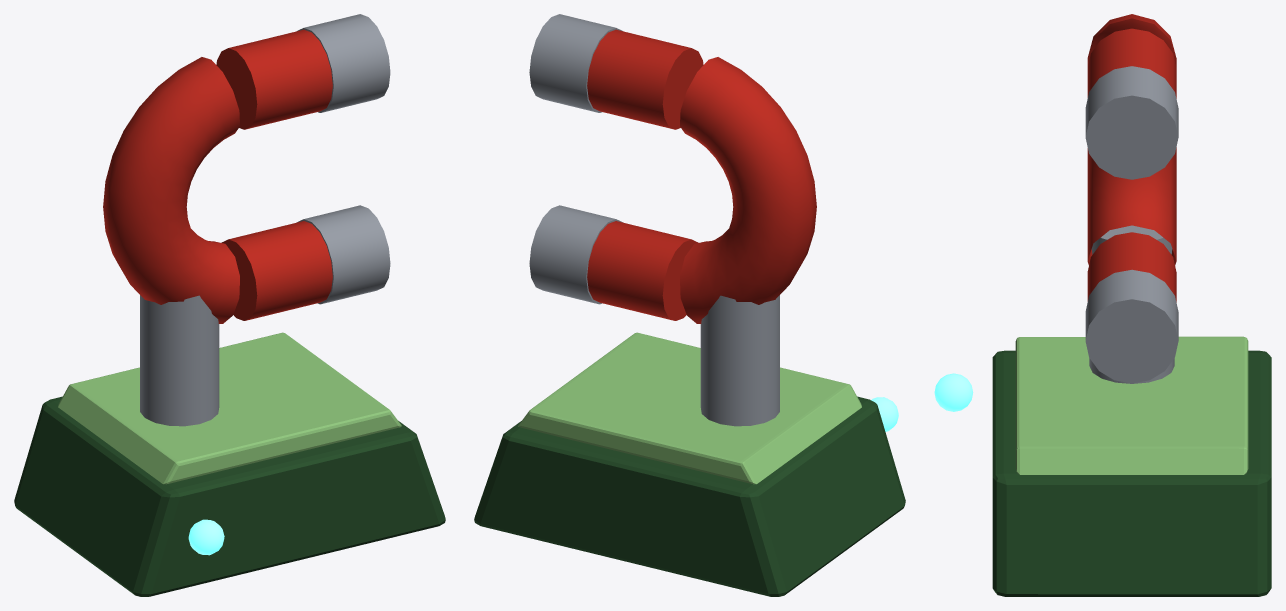
File: magnet_r.glb
3 views of the same model, side by side, from view 1: azimuth 30°, elevation 25°; view 2: azimuth 150°, elevation 25°; view 3: azimuth 270°, elevation 25° (orthographic). The views are drawn at different scales.
Parts seen in each view (by area): view 1: plinth, plate, horseshoe, post, arm.001, arm, pole.001, pole, lamp; view 2: plinth, plate, horseshoe, post, arm.001, arm, pole.001, pole; view 3: plinth, plate, pole.001, pole, horseshoe, arm.001, arm, lamp, post.
Part boxes in pixels (left/top/right/bottom): plinth: left=14, top=396, right=445, bottom=596; plate: left=58, top=332, right=401, bottom=484; horseshoe: left=103, top=57, right=239, bottom=323; post: left=140, top=295, right=219, bottom=426; arm.001: left=216, top=29, right=332, bottom=129; arm: left=221, top=221, right=332, bottom=320; pole.001: left=297, top=14, right=390, bottom=112; pole: left=297, top=205, right=390, bottom=304; lamp: left=188, top=519, right=224, bottom=555; plinth: left=474, top=396, right=905, bottom=596; plate: left=518, top=332, right=861, bottom=484; horseshoe: left=680, top=57, right=816, bottom=323; post: left=700, top=295, right=779, bottom=426; arm.001: left=587, top=29, right=703, bottom=129; arm: left=587, top=221, right=698, bottom=320; pole.001: left=529, top=14, right=622, bottom=112; pole: left=529, top=205, right=622, bottom=304; plinth: left=992, top=350, right=1271, bottom=596; plate: left=1015, top=336, right=1248, bottom=474; pole.001: left=1085, top=66, right=1178, bottom=179; pole: left=1085, top=269, right=1178, bottom=383; horseshoe: left=1087, top=14, right=1176, bottom=265; arm.001: left=1087, top=28, right=1176, bottom=98; arm: left=1087, top=232, right=1176, bottom=302; lamp: left=934, top=373, right=973, bottom=411; post: left=1089, top=225, right=1174, bottom=383.
Bounding box in the file's own units: 9.9 × 14.1 × 8.7.
